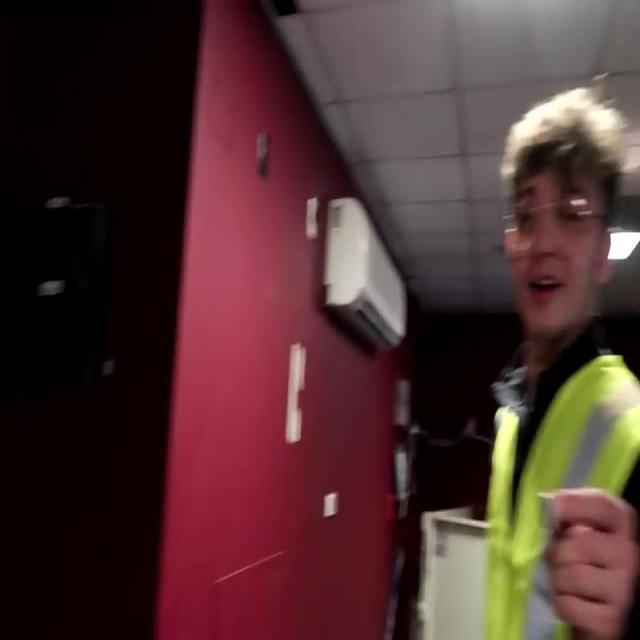reflective_jacket: (464, 335, 639, 639)
safety_helmet: (484, 61, 639, 200)
